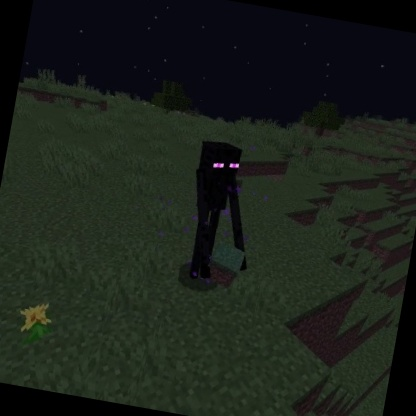enderman: (174, 135, 271, 292)
